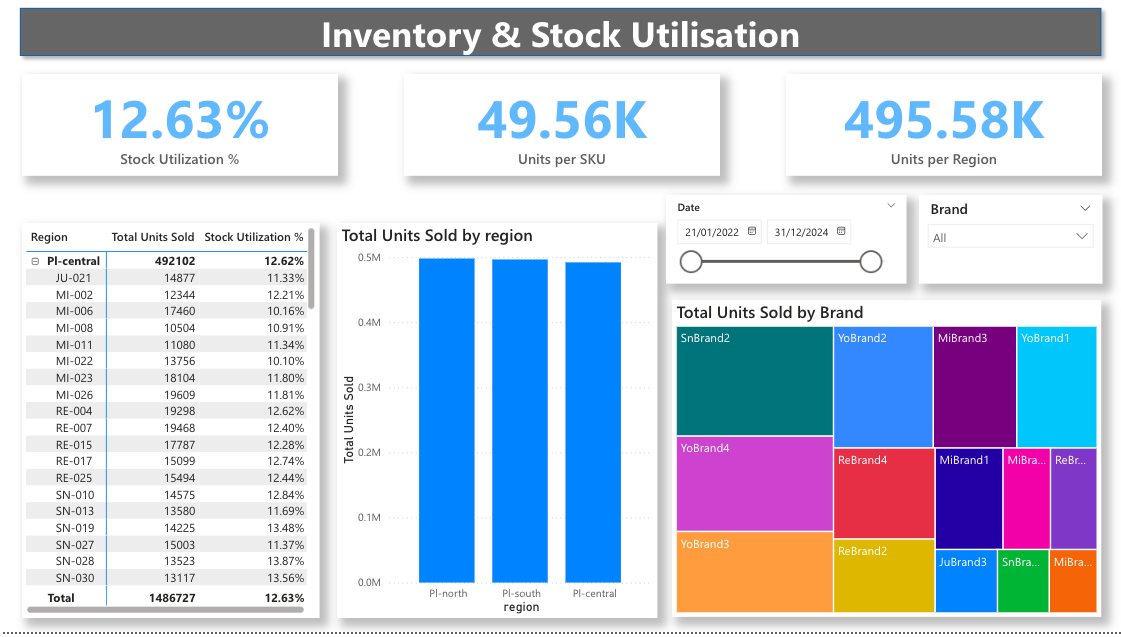

Layout of this report page (visuals, bound fields, positions):
{"tool":"powerbi","page":{"name":"Inventory & Operations","canvas":[1280,720],"ordinal":1},"visuals":[{"type":"shape","title":"Executive Sales & Inventory Overview","box":[14.2,0,1249.9,72.8],"z":0},{"type":"card","fields":{"Values":["Measure Table.Stock Utilization %"]},"box":[24.5,84.5,359.9,115.9],"z":1000},{"type":"card","fields":{"Values":["Measure Table.Units per SKU"]},"box":[460.7,84.5,359.9,115.9],"z":2000},{"type":"card","fields":{"Values":["Measure Table.Units per Region"]},"box":[895.6,84.5,359.9,115.9],"z":3000},{"type":"pivotTable","fields":{"Rows":["gold_sales_gold_for_bi.region","gold_sales_gold_for_bi.sku"],"Values":["Measure Table.Total Units Sold","Measure Table.Stock Utilization %"]},"box":[24.5,253.5,339.4,449.8],"z":4000},{"type":"clusteredColumnChart","fields":{"Category":["gold_sales_gold_for_bi.region"],"Y":["Measure Table.Total Units Sold"]},"box":[384.4,253.5,365.3,449.8],"z":5000},{"type":"treemap","fields":{"Group":["gold_sales_gold_for_bi.brand"],"Values":["Measure Table.Total Units Sold"]},"box":[766.1,342.2,489.4,361.2],"z":6000},{"type":"slicer","fields":{"Values":["gold_sales_gold_for_bi.date"]},"box":[759.3,222.2,274,100.9],"z":7000},{"type":"slicer","fields":{"Values":["gold_sales_gold_for_bi.brand"]},"box":[1046.9,222.2,208.6,100.9],"z":8000}]}

Visuals, with their boxes in screenshot pixels (x1, y1, x2, y2), scaled from the page's 1280x720 canvas onto the 1121x637 screenshot:
"Executive Sales & Inventory Overview" shape: locate(12, 0, 1107, 64)
card - Measure Table.Stock Utilization %: locate(21, 75, 337, 177)
card - Measure Table.Units per SKU: locate(403, 75, 719, 177)
card - Measure Table.Units per Region: locate(784, 75, 1100, 177)
pivotTable - gold_sales_gold_for_bi.region x gold_sales_gold_for_bi.sku: locate(21, 224, 319, 622)
clusteredColumnChart - gold_sales_gold_for_bi.region x Measure Table.Total Units Sold: locate(337, 224, 657, 622)
treemap - gold_sales_gold_for_bi.brand x Measure Table.Total Units Sold: locate(671, 303, 1100, 622)
slicer - gold_sales_gold_for_bi.date: locate(665, 197, 905, 286)
slicer - gold_sales_gold_for_bi.brand: locate(917, 197, 1100, 286)
